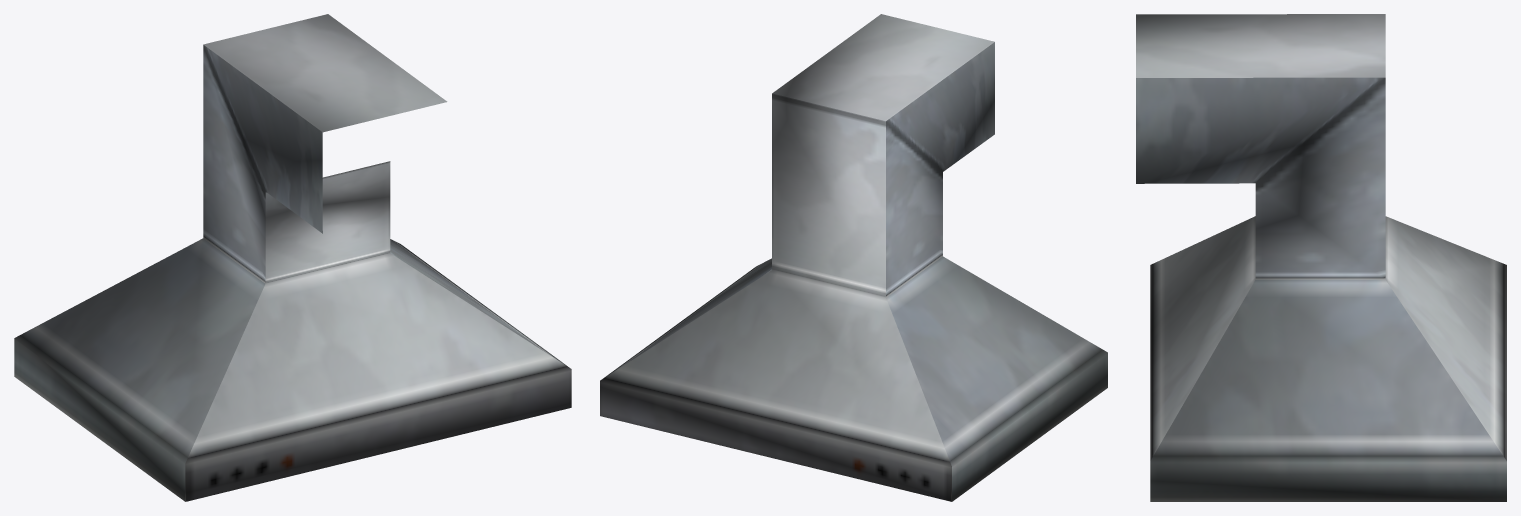
File: a_SCcook05.glb
3 renders of one model, left to right at view 1: azimuth 30°, elevation 25°; view 2: azimuth 150°, elevation 25°; view 3: azimuth 270°, elevation 25°, orthographic. The views are drawn at different scales.
Visible parts, largest first — view 1: a_SCcook05; view 2: a_SCcook05; view 3: a_SCcook05.
Boxes of the visible parts, x1,y1,x2,y2 form: a_SCcook05: (14, 14, 571, 501); a_SCcook05: (600, 14, 1107, 501); a_SCcook05: (1136, 14, 1506, 501).
Bounding box in the file's own units: 1 × 0.8529 × 0.8012.
1 material, 1 textured.
